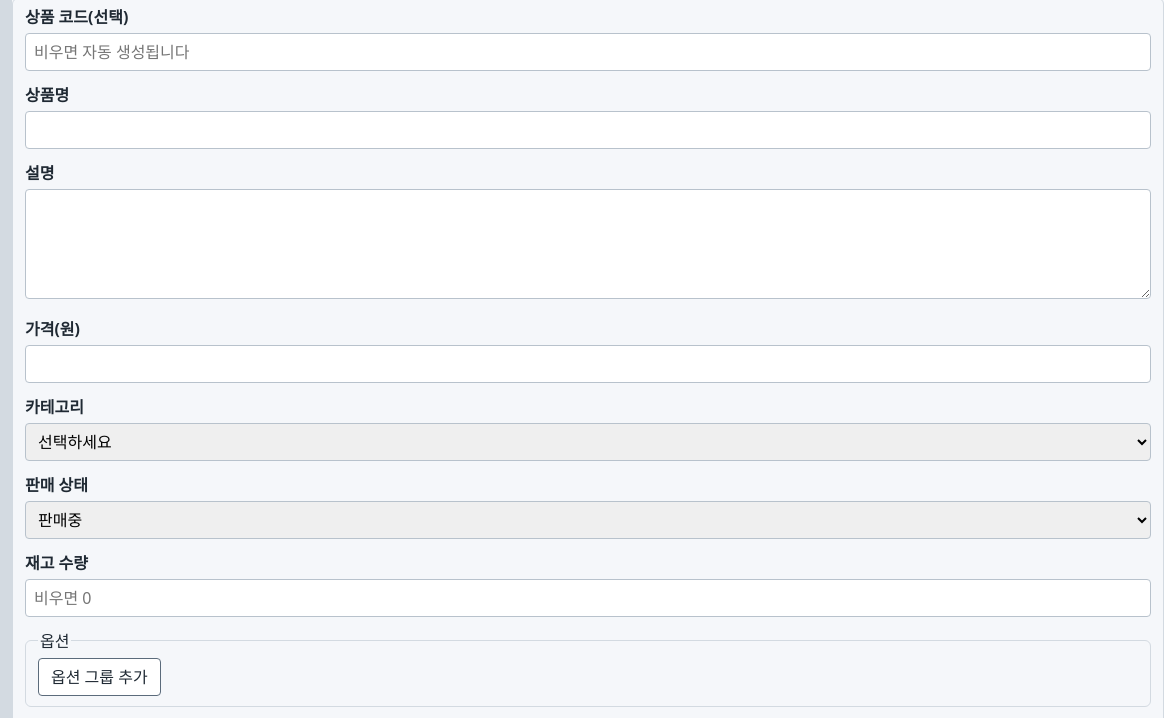
ProductForm › 가격 0과 재고 -1을 거부한다
The width and height of the screenshot is (1164, 718).
In the field labelled "상품명": (588, 130) [25, 111, 1151, 149], type "티셔츠"
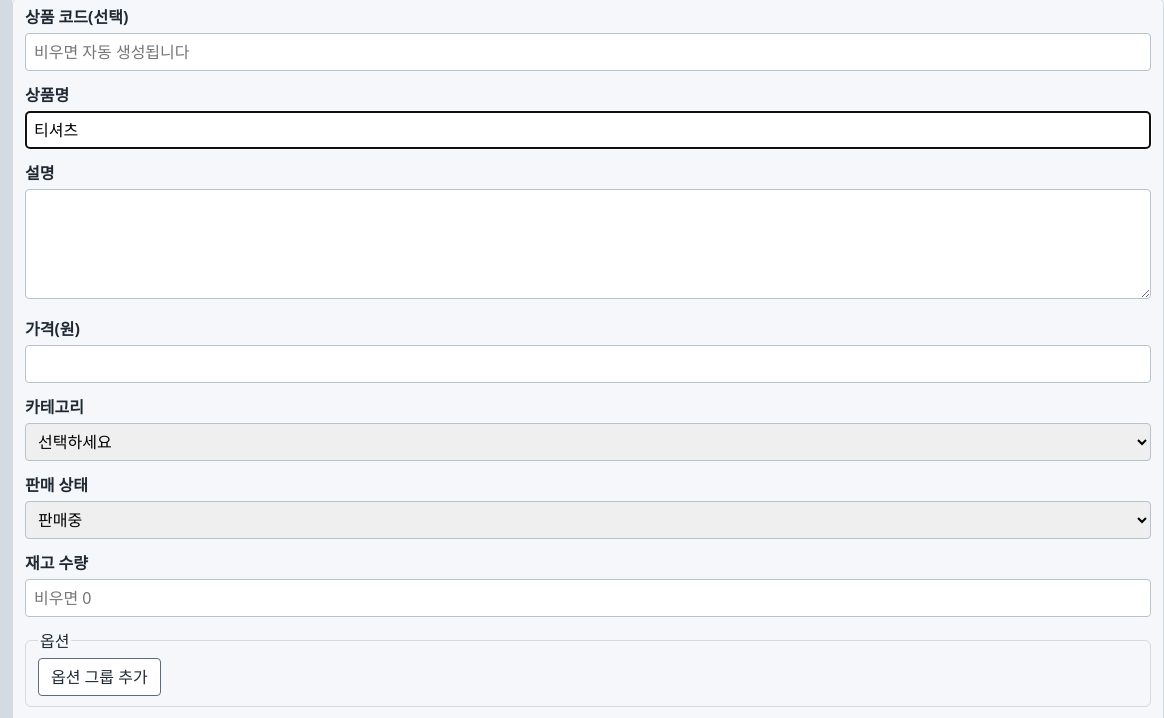
In the field labelled "가격(원)": (588, 364) [25, 345, 1151, 383], type "0"
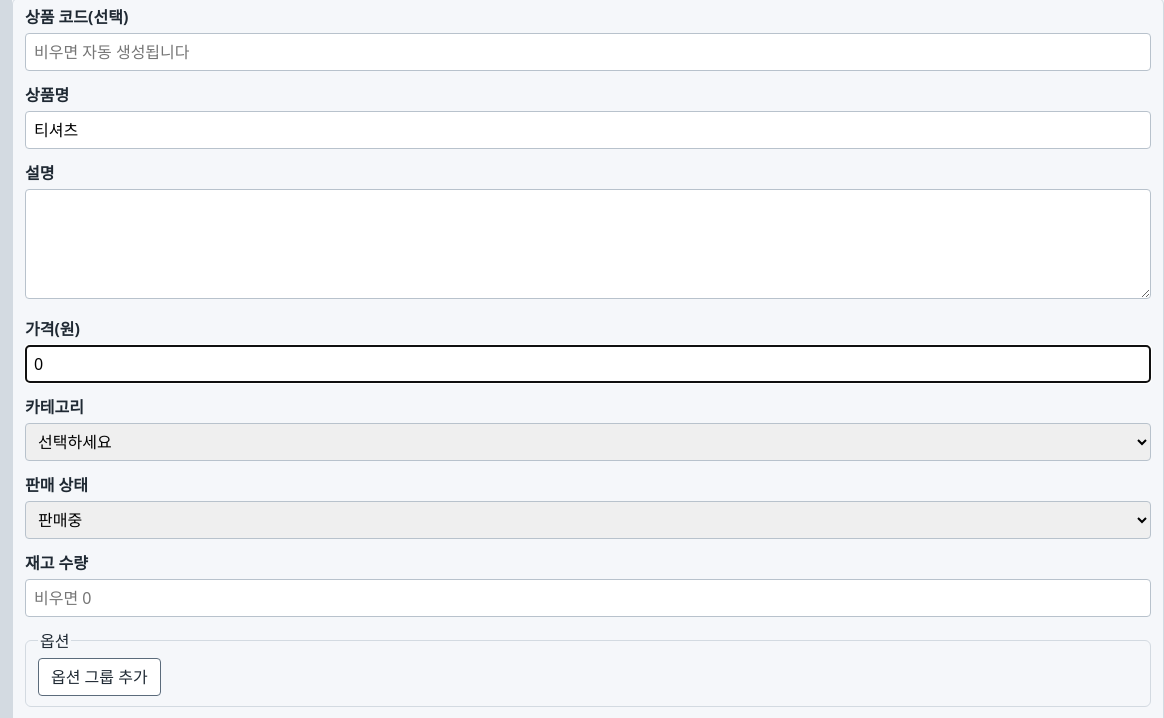
Select "의류" in the dropdown labelled "카테고리": (588, 442) [25, 423, 1151, 461]
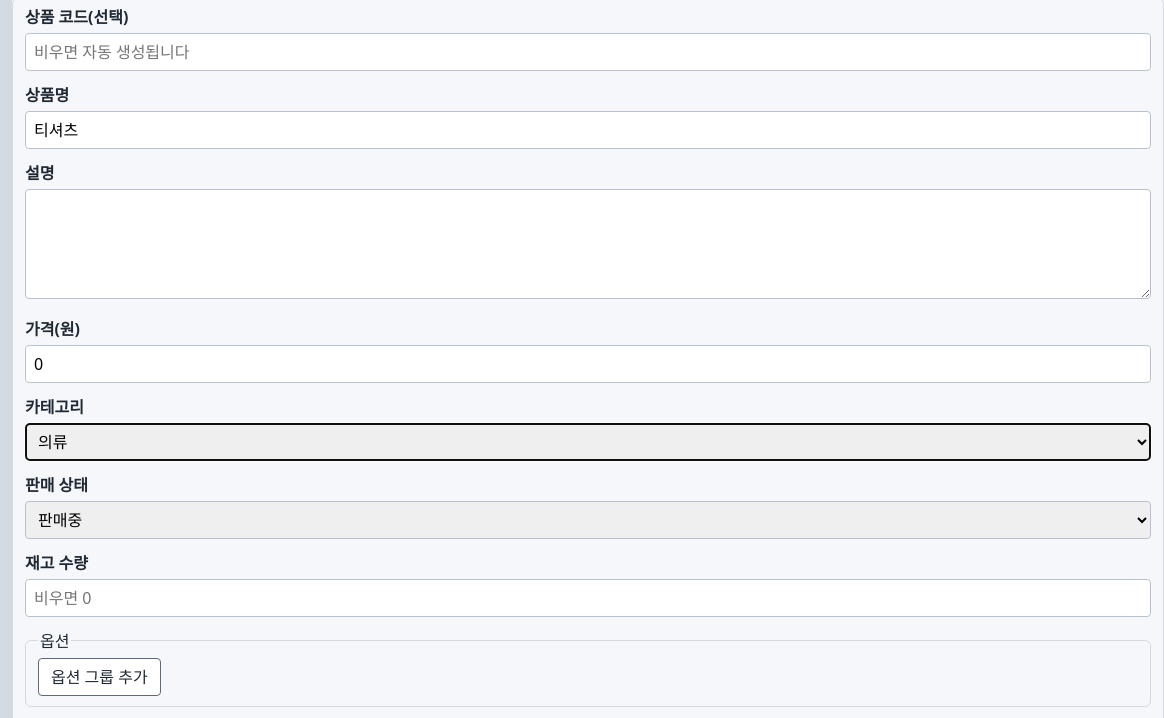
In the field labelled "재고 수량": (588, 598) [25, 579, 1151, 617], type "-1"
(page scrolled)
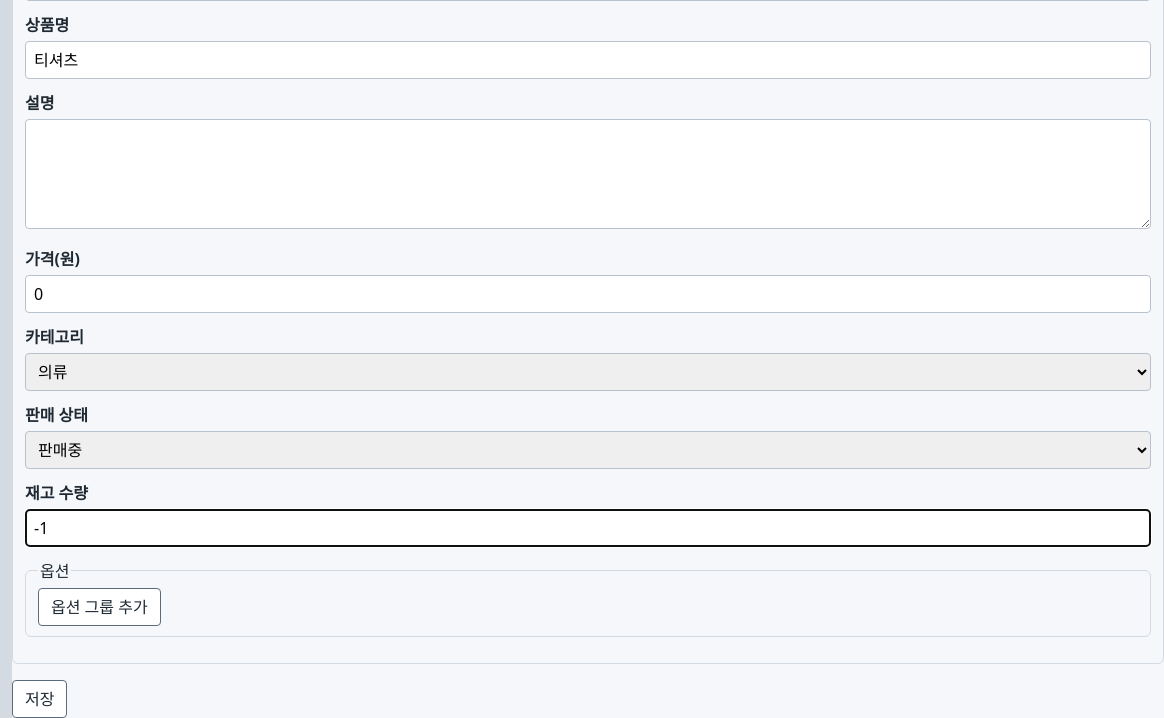
Click the button "저장": click(40, 699) [12, 680, 68, 717]
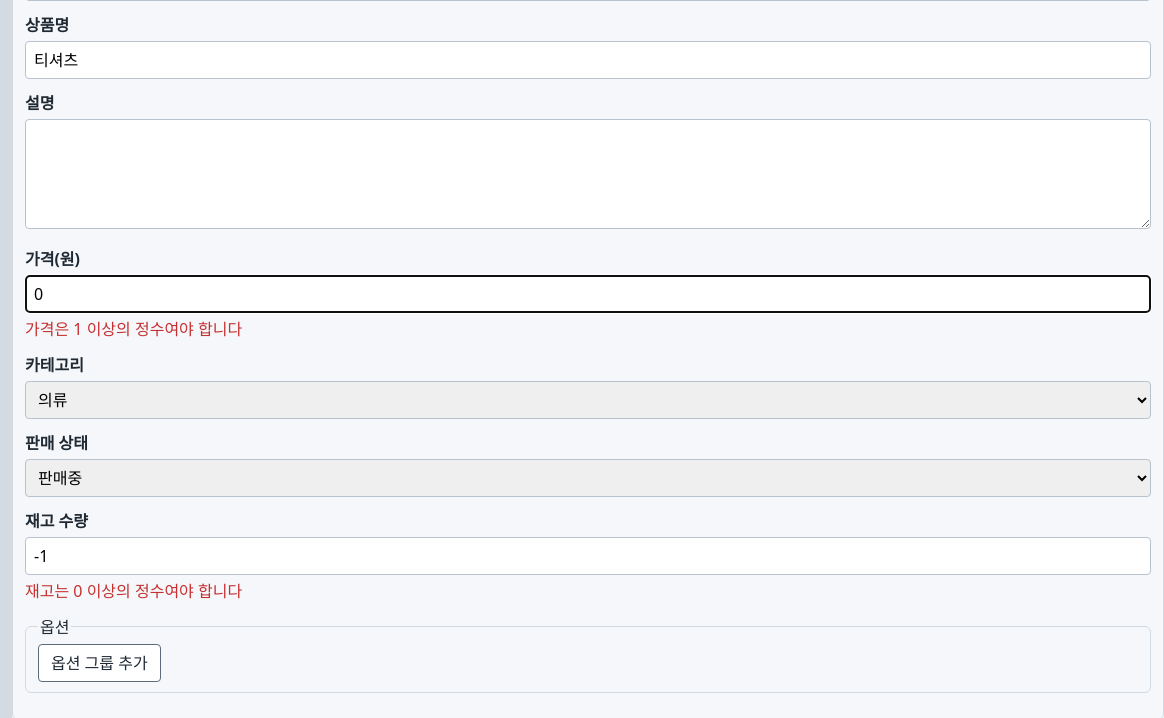
Expected: the text "가격은 1 이상의 정수여야 합니다" is shown, [25, 318, 242, 340]
Expected: the text "재고는 0 이상의 정수여야 합니다" is shown, [25, 580, 242, 602]
